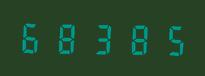eight: (51, 19, 83, 55), (117, 20, 149, 56)
five: (150, 20, 182, 57)
six: (18, 18, 50, 55)
three: (84, 19, 116, 56)
